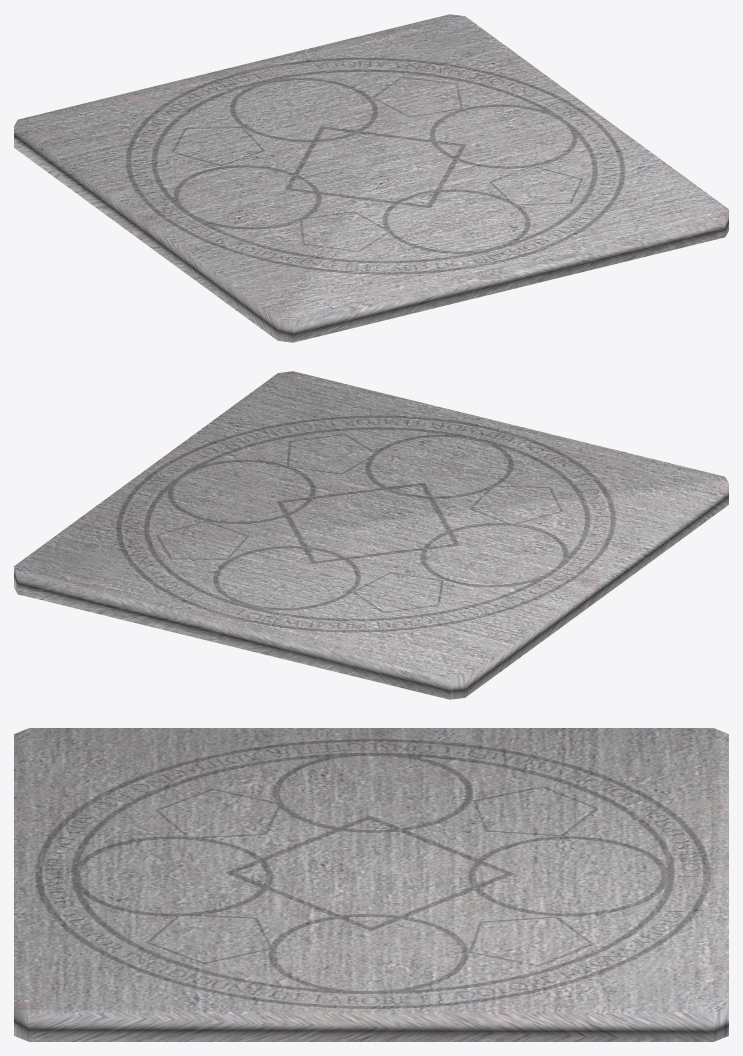
Rendered from MagicPlate.fbx.
The picture shows the model from 3 angles, top to bottom: view 1: azimuth 30°, elevation 25°; view 2: azimuth 150°, elevation 25°; view 3: azimuth 270°, elevation 25°; orthographic projection. The views are drawn at different scales.
Parts seen in each view (by area): view 1: Cube; view 2: Cube; view 3: Cube.
Part boxes in pixels (x1,y1,x2,y2): Cube: (14, 14, 728, 342); Cube: (14, 371, 728, 699); Cube: (14, 728, 728, 1041).
Bounding box in the file's own units: 573 × 26.1 × 606.
1 material, 1 textured.
